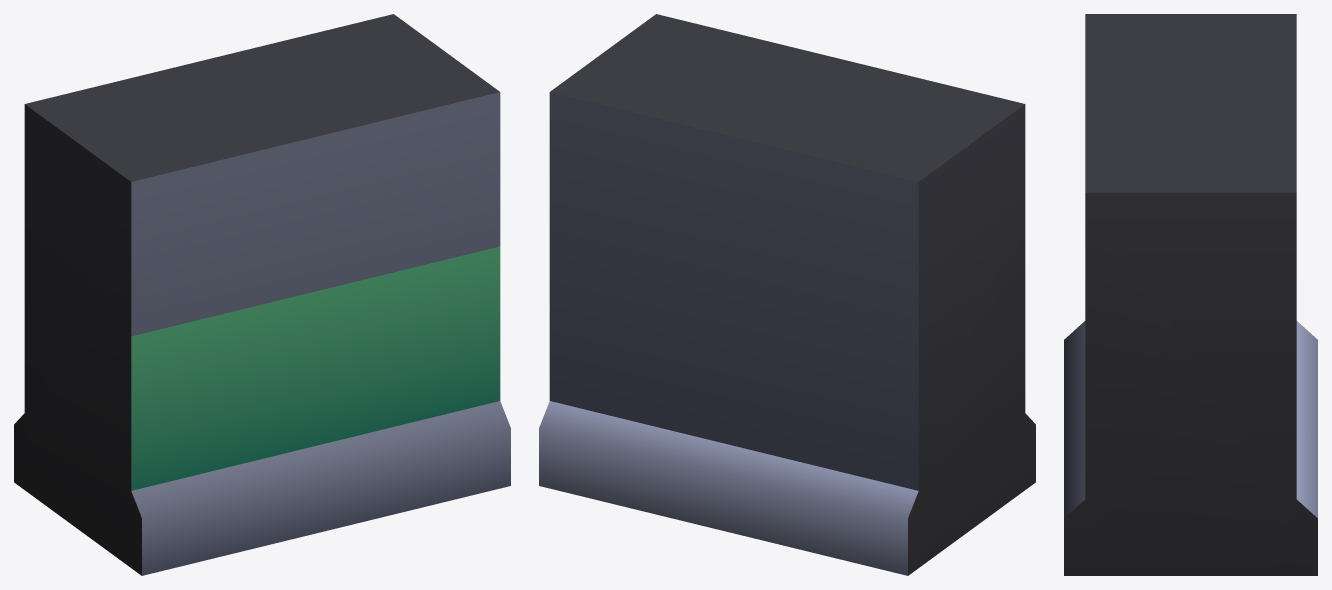
Rendered from wall.glb.
The picture shows the model from 3 angles, left to right: view 1: azimuth 30°, elevation 25°; view 2: azimuth 150°, elevation 25°; view 3: azimuth 270°, elevation 25°; orthographic projection.
Visible parts, largest first — view 1: wall; view 2: wall; view 3: wall.
Part boxes in pixels (left/top/right/bottom): wall: left=14, top=14, right=510, bottom=575; wall: left=539, top=14, right=1035, bottom=575; wall: left=1064, top=14, right=1317, bottom=575.
Size of the model in its own units: 1 by 1 by 0.6.
